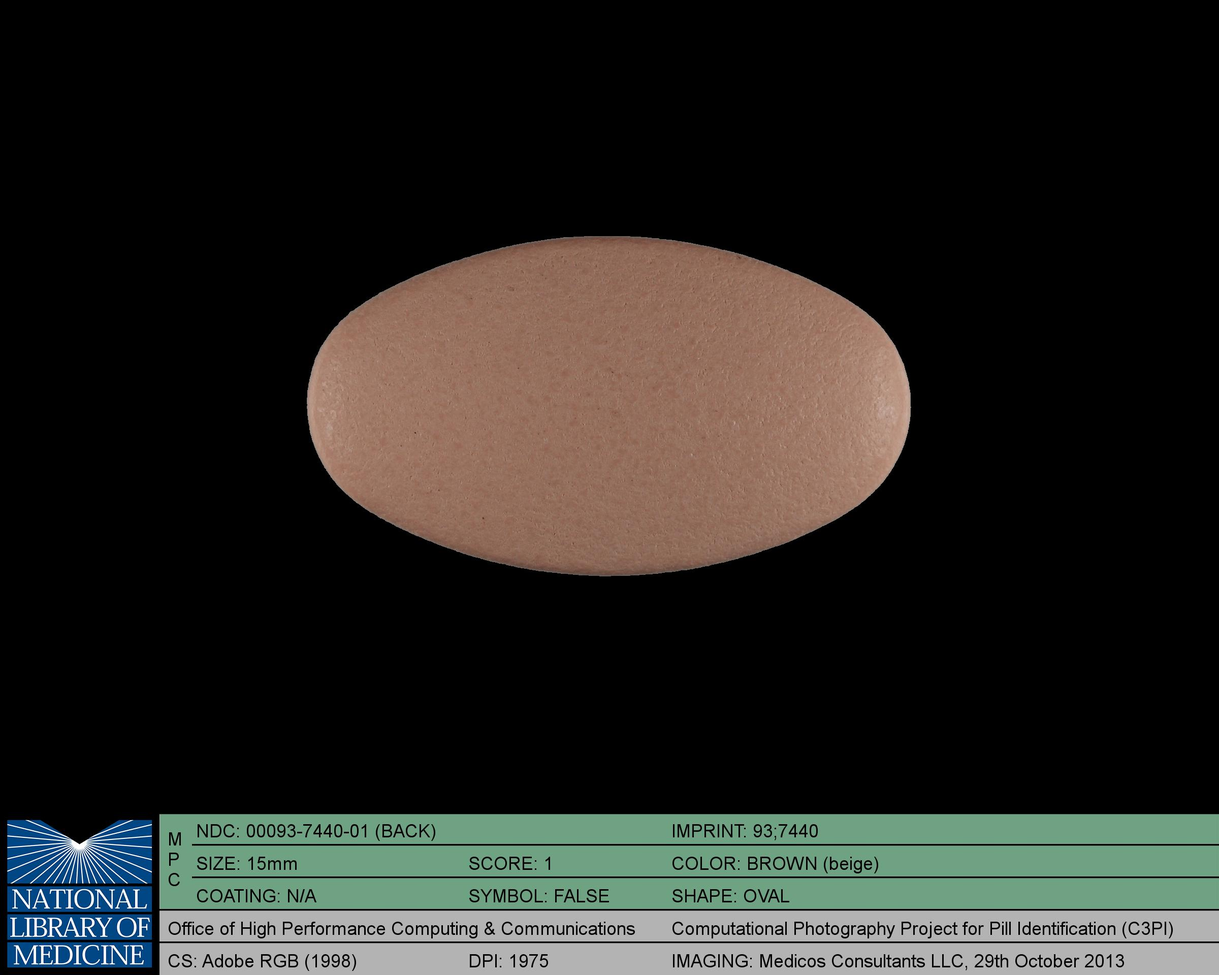Pill: (291, 223, 923, 589)
